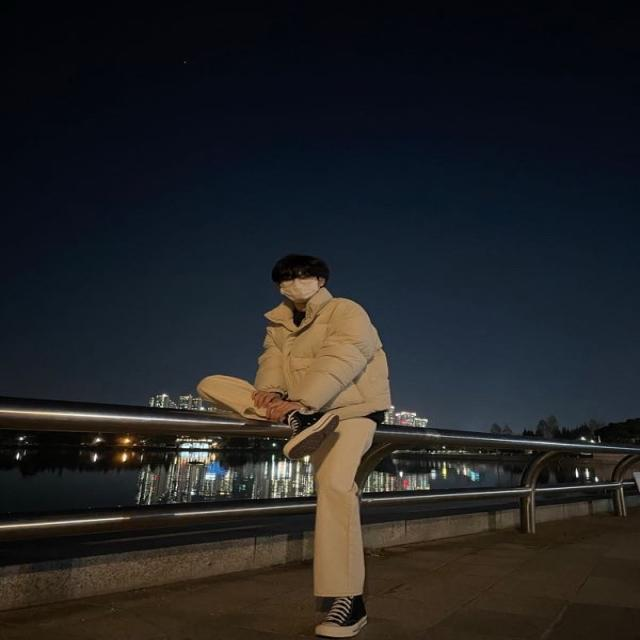cottonpants: (204, 376, 377, 597)
padding: (260, 291, 396, 420)
